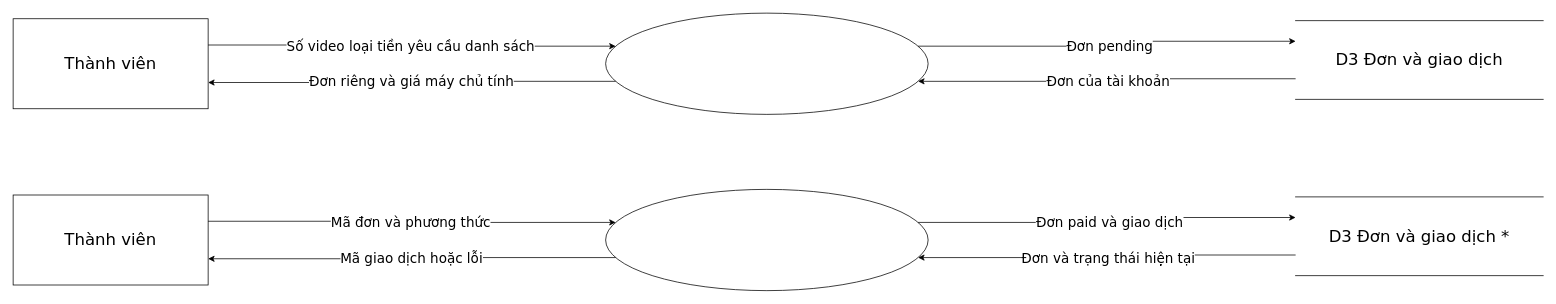
This 1556x304 diagram has some shape labels left out. Each missing label, with the centre of its shape:
"3.1 Lập và tra cứu đơn cá nhân" goes at (x=766, y=63).
"3.2 Thanh toán mô phỏng" goes at (x=766, y=240).
